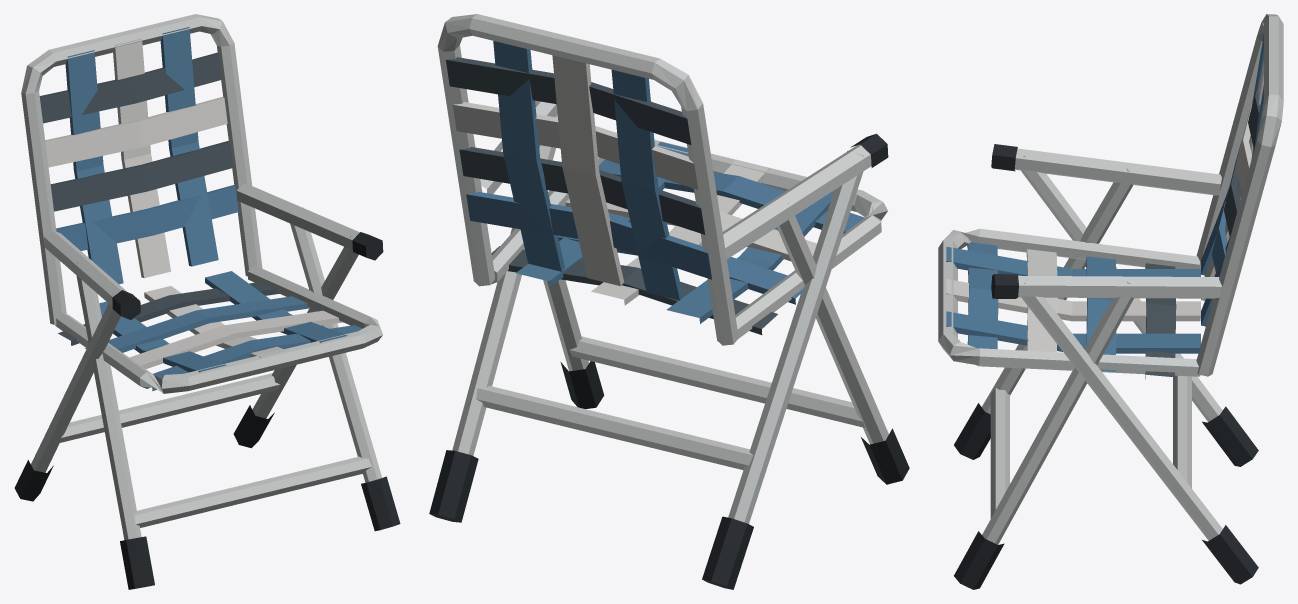
File: folding-lawn-chair-b7ddbe.glb
3 renders of one model, left to right at view 1: azimuth 30°, elevation 25°; view 2: azimuth 150°, elevation 25°; view 3: azimuth 270°, elevation 25°, orthographic. The views are drawn at different scales.
Parts seen in each view (by area): view 1: chair-body, backrest-mesh; view 2: chair-body, backrest-mesh; view 3: chair-body, backrest-mesh.
Boxes of the visible parts, <box> form: chair-body: <box>14,184,400,589</box>; backrest-mesh: <box>21,14,262,324</box>; chair-body: <box>429,100,909,589</box>; backrest-mesh: <box>437,14,738,345</box>; chair-body: <box>938,144,1258,589</box>; backrest-mesh: <box>1196,14,1283,376</box>.
Bounding box in the file's own units: 0.5937 × 0.9127 × 0.6096.
